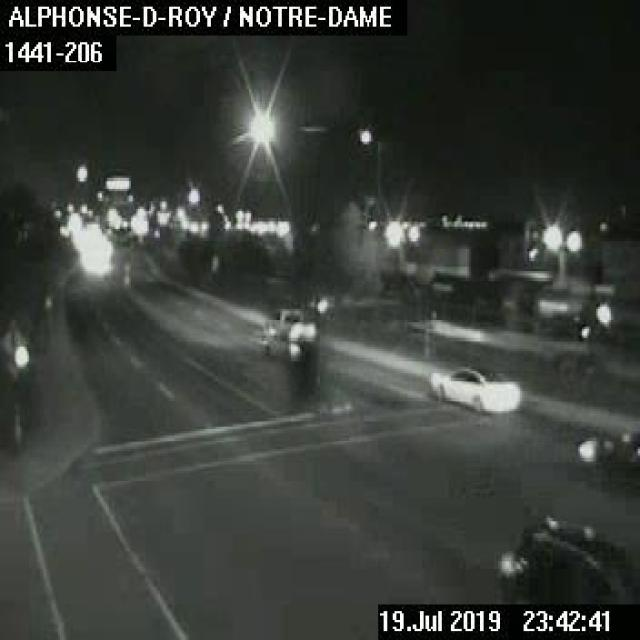vehicle: (491, 514, 638, 602), (425, 362, 522, 413), (569, 429, 638, 467), (260, 302, 318, 344)
